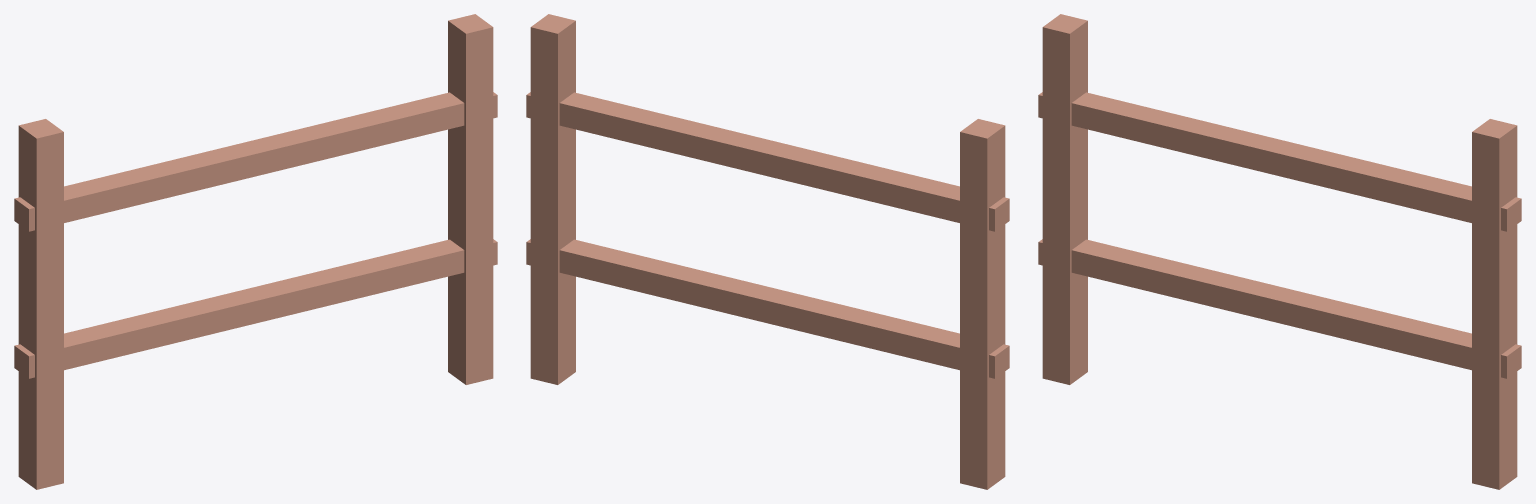
The picture shows the model from 3 angles, left to right: view 1: azimuth 30°, elevation 25°; view 2: azimuth 150°, elevation 25°; view 3: azimuth 330°, elevation 25°; orthographic projection.
Parts seen in each view (by area): view 1: Fence post, Fence post.001, Fence beam.001, Fence beam; view 2: Fence post, Fence post.001, Fence beam.001, Fence beam; view 3: Fence post.001, Fence post, Fence beam.001, Fence beam.
Part boxes in pixels (<box>): Fence post: <box>18,119,63,489</box>; Fence post.001: <box>448,14,493,384</box>; Fence beam.001: <box>14,92,497,231</box>; Fence beam: <box>14,239,497,378</box>; Fence post: <box>960,119,1005,489</box>; Fence post.001: <box>530,14,575,384</box>; Fence beam.001: <box>526,92,1009,231</box>; Fence beam: <box>526,239,1009,378</box>; Fence post.001: <box>1472,119,1517,489</box>; Fence post: <box>1042,14,1087,384</box>; Fence beam.001: <box>1038,92,1521,231</box>; Fence beam: <box>1038,239,1521,378</box>.
Size of the model in its own units: 120 by 86 by 8.
